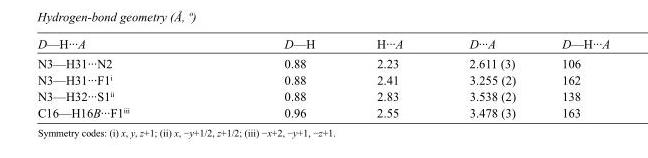table: (36, 36, 609, 119)
table column: (36, 36, 206, 119), (206, 36, 345, 119), (435, 36, 538, 119), (345, 36, 435, 119), (538, 36, 609, 119)
table row: (36, 53, 609, 71), (36, 36, 609, 53), (36, 71, 609, 88), (36, 88, 609, 104), (36, 104, 609, 119)
